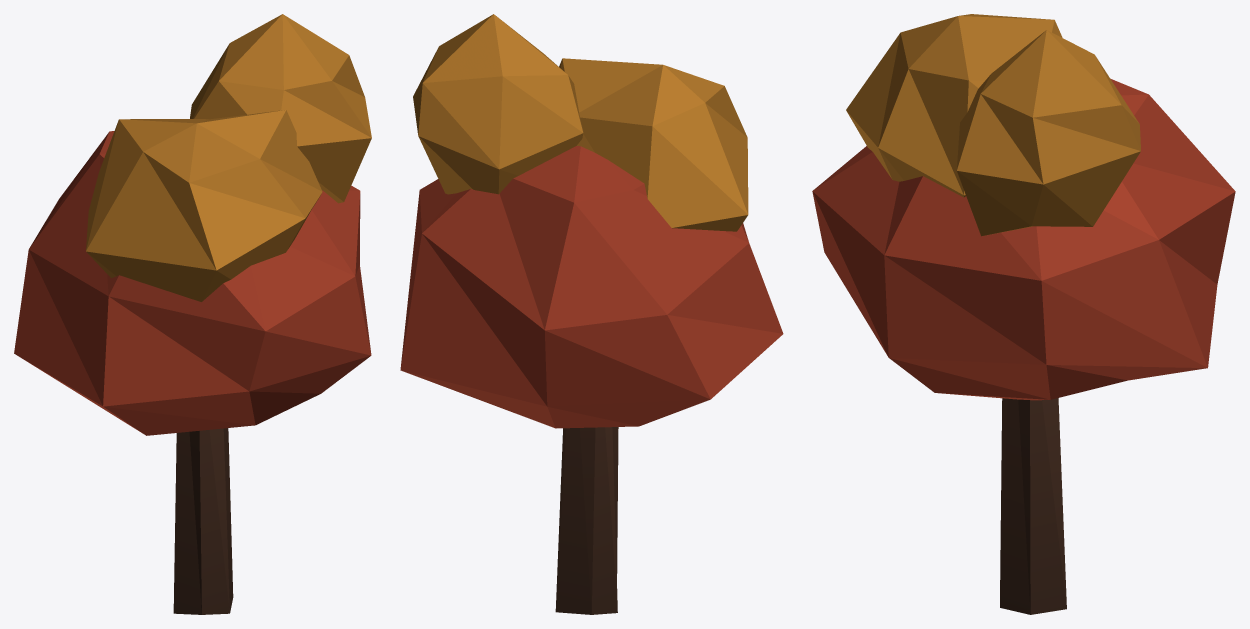
The model's file is tree_red_1.glb.
3 views of the same model, side by side, from view 1: azimuth 30°, elevation 25°; view 2: azimuth 150°, elevation 25°; view 3: azimuth 270°, elevation 25° (orthographic). The views are drawn at different scales.
Visible parts, largest first — view 1: tree_red_1; view 2: tree_red_1; view 3: tree_red_1.
Part boxes in pixels (bbox=[...]): tree_red_1: bbox=[14, 14, 371, 614]; tree_red_1: bbox=[400, 14, 783, 614]; tree_red_1: bbox=[812, 14, 1235, 614].
Size of the model in its own units: 0.6893 by 1.16 by 0.7188.
